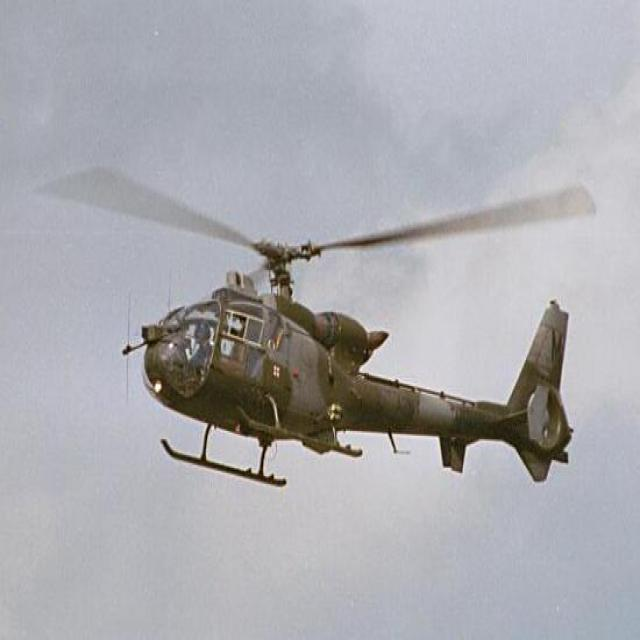MIL_HELO: (28, 130, 607, 527)
